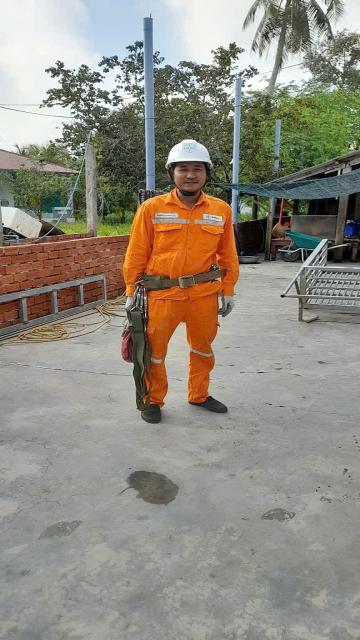gloves: (218, 288, 239, 321), (121, 295, 137, 317)
harness: (126, 259, 229, 297)
helmet: (153, 136, 221, 169)
shoes: (176, 389, 233, 423), (131, 391, 167, 431)
